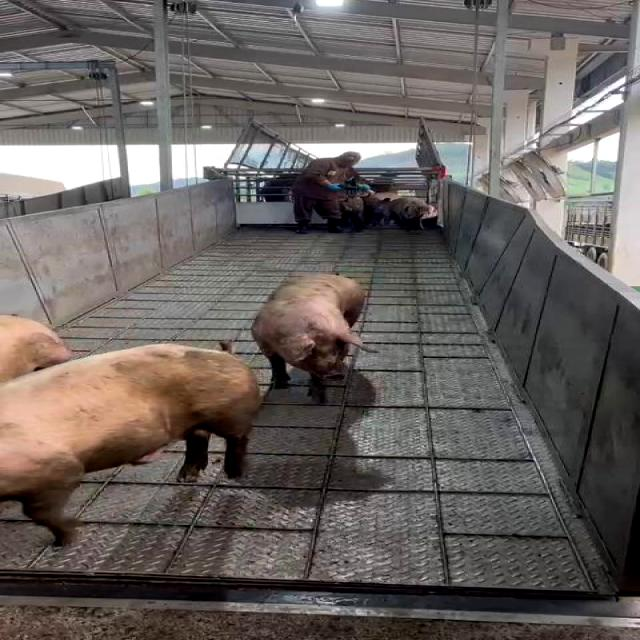pig: (0, 344, 261, 545), (252, 274, 376, 402), (0, 315, 71, 382)
